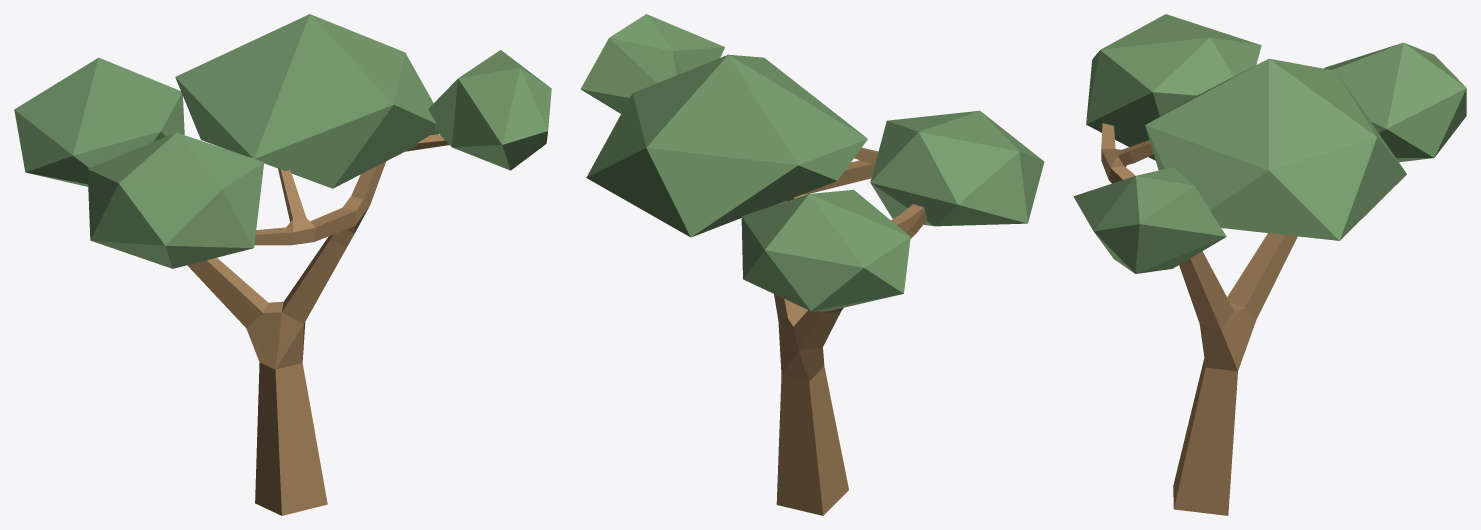
Rendered from PineTree.fbx.
3 renders of one model, left to right at view 1: azimuth 30°, elevation 25°; view 2: azimuth 150°, elevation 25°; view 3: azimuth 270°, elevation 25°, orthographic. The views are drawn at different scales.
Parts seen in each view (by area): view 1: Icosphere.001, Branches, Icosphere.002, Icosphere, Icosphere.003; view 2: Icosphere.001, Icosphere, Icosphere.002, Branches, Icosphere.003; view 3: Icosphere.001, Branches, Icosphere.002, Icosphere.003, Icosphere.
Part boxes in pixels (bbox=[...]): Icosphere.001: bbox=[175, 14, 438, 188]; Branches: bbox=[187, 134, 448, 515]; Icosphere.002: bbox=[87, 132, 264, 268]; Icosphere: bbox=[14, 57, 184, 186]; Icosphere.003: bbox=[428, 50, 551, 170]; Icosphere.001: bbox=[586, 54, 867, 237]; Icosphere: bbox=[741, 189, 910, 311]; Icosphere.002: bbox=[870, 110, 1044, 226]; Branches: bbox=[774, 147, 926, 515]; Icosphere.003: bbox=[580, 14, 724, 113]; Icosphere.001: bbox=[1145, 58, 1406, 240]; Branches: bbox=[1101, 123, 1297, 515]; Icosphere.002: bbox=[1086, 14, 1261, 160]; Icosphere.003: bbox=[1073, 167, 1226, 273]; Icosphere: bbox=[1324, 42, 1466, 162].
Size of the model in its own units: 918 by 913 by 690.
